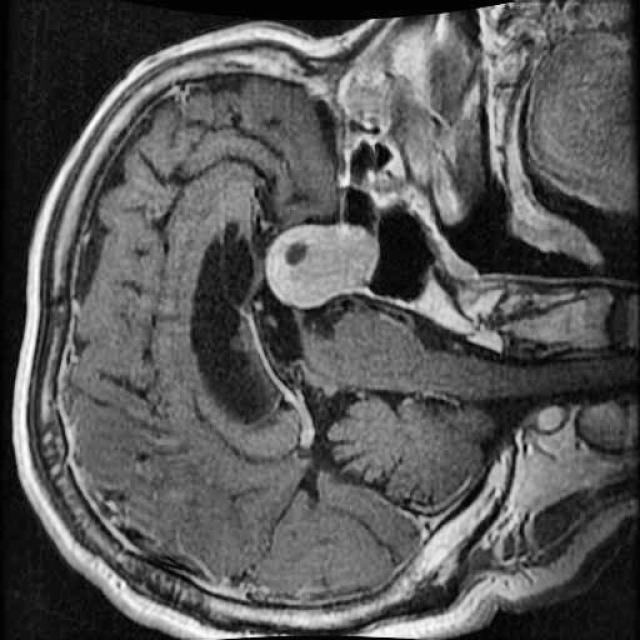Tumor: (259, 214, 388, 319)
